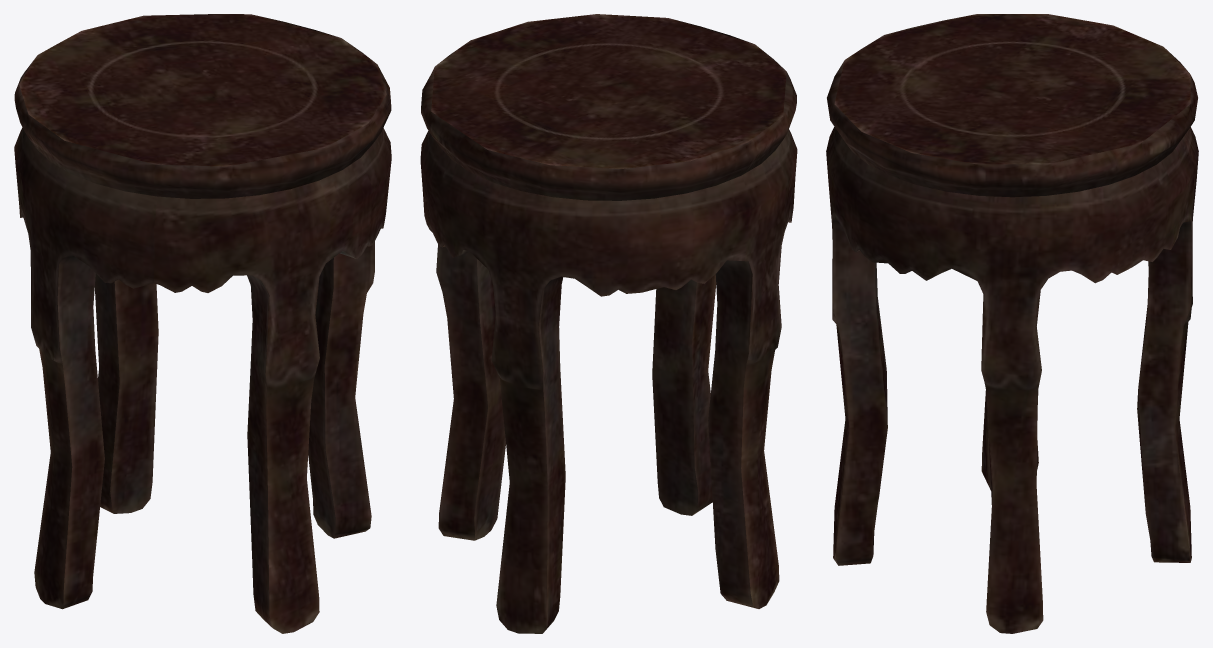
Rendered from WoodenTable_02.glb.
3 views of the same model, side by side, from view 1: azimuth 30°, elevation 25°; view 2: azimuth 150°, elevation 25°; view 3: azimuth 270°, elevation 25° (orthographic).
Parts seen in each view (by area): view 1: WoodenTable_02; view 2: WoodenTable_02; view 3: WoodenTable_02.
Part boxes in pixels (x1,y1,x2,y2): WoodenTable_02: [14, 14, 391, 633]; WoodenTable_02: [420, 14, 797, 633]; WoodenTable_02: [826, 14, 1198, 633].
Bounding box in the file's own units: 0.3007 × 0.4177 × 0.3007.
Materials: 1 (1 with a texture image).
